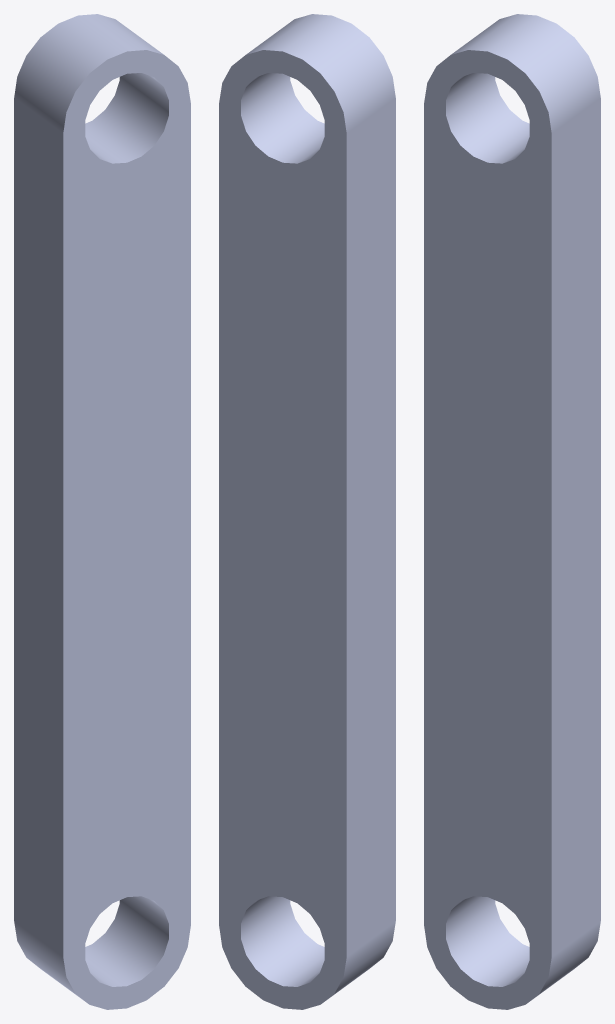
The model's file is longRod.fbx.
3 views of the same model, side by side, from view 1: azimuth 30°, elevation 25°; view 2: azimuth 150°, elevation 25°; view 3: azimuth 330°, elevation 25° (orthographic).
Visible parts, largest first — view 1: 凸台-拉伸1; view 2: 凸台-拉伸1; view 3: 凸台-拉伸1.
Part boxes in pixels (box(x1,y1,x2,y2)): 凸台-拉伸1: box(14, 14, 190, 1009); 凸台-拉伸1: box(219, 14, 395, 1009); 凸台-拉伸1: box(424, 14, 600, 1009).
Bounding box in the file's own units: 0.3543 × 2.54 × 0.2362.
